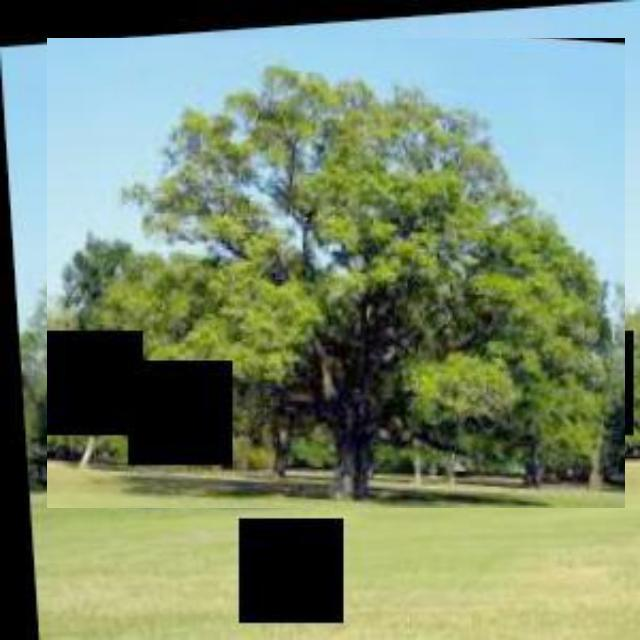tree: (47, 38, 625, 508)
